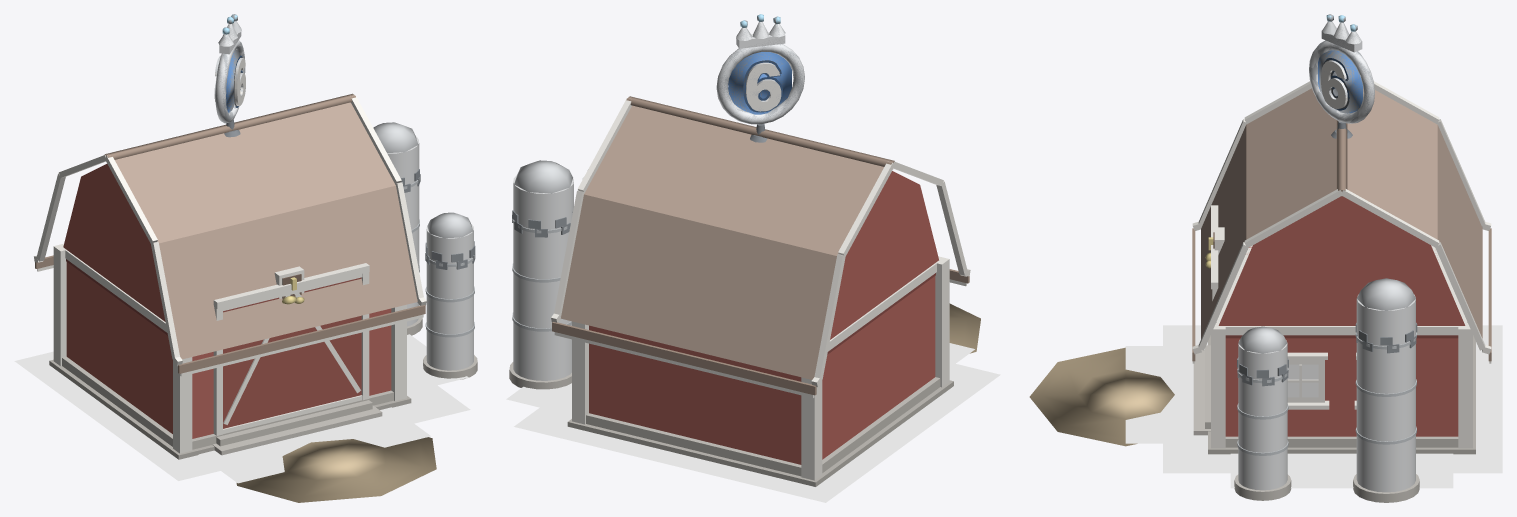
File: barn_6.glb
3 views of the same model, side by side, from view 1: azimuth 30°, elevation 25°; view 2: azimuth 150°, elevation 25°; view 3: azimuth 270°, elevation 25° (orthographic). The views are drawn at different scales.
Parts seen in each view (by area): view 1: body2, barn_6, spin_60_0, body; view 2: body2, barn_6, spin_60_0, body; view 3: body2, barn_6, spin_60_0, body.
Boxes of the visible parts, x1,y1,x2,y2 form: body2: (34, 93, 477, 502); barn_6: (14, 334, 470, 483); spin_60_0: (214, 14, 245, 122); body: (214, 14, 245, 123); body2: (509, 96, 980, 486); barn_6: (506, 343, 1000, 502); spin_60_0: (716, 14, 804, 124); body: (717, 16, 803, 124); body2: (1029, 81, 1491, 502); barn_6: (1125, 325, 1502, 488); spin_60_0: (1309, 14, 1374, 123); body: (1309, 14, 1373, 123).
Size of the model in its own units: 3.34 by 3.41 by 3.8.
